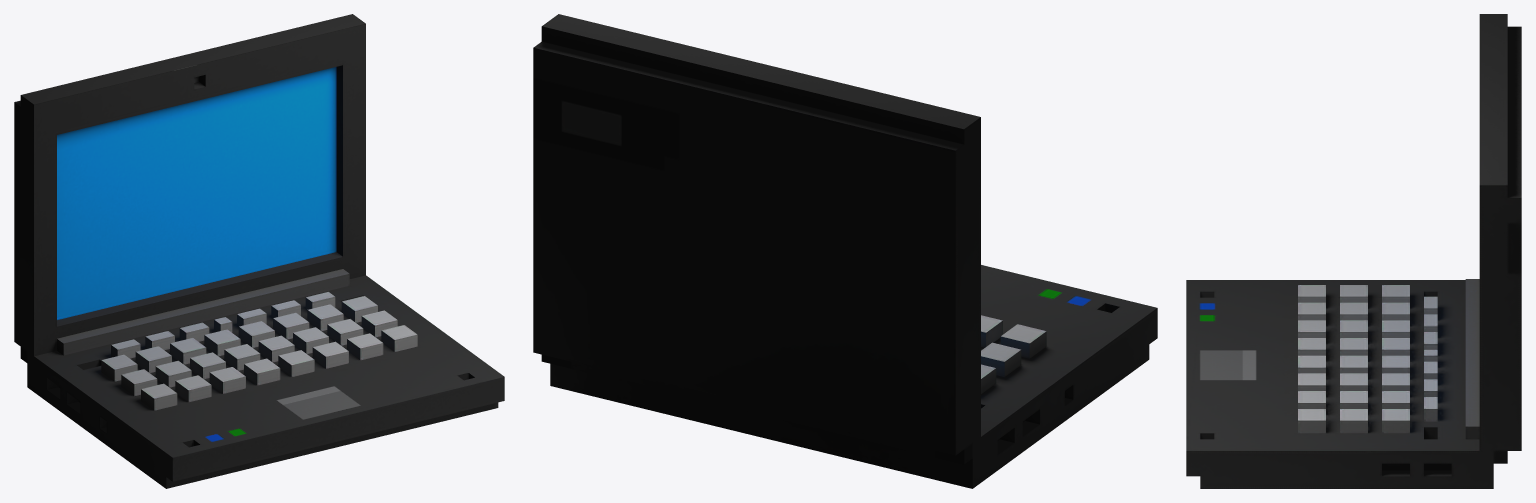
Rendered from laptop.glb.
The picture shows the model from 3 angles, left to right: view 1: azimuth 30°, elevation 25°; view 2: azimuth 150°, elevation 25°; view 3: azimuth 270°, elevation 25°; orthographic projection. The views are drawn at different scales.
Parts seen in each view (by area): view 1: Laptop VOX.001; view 2: Laptop VOX.001; view 3: Laptop VOX.001.
Part boxes in pixels (x1,y1,x2,y2): Laptop VOX.001: (14,14,504,488); Laptop VOX.001: (533,14,1157,488); Laptop VOX.001: (1186,14,1521,488).
Size of what is drawn, in the model's own units: 2.9 by 2.4 by 2.4.
1 material, 1 textured.
